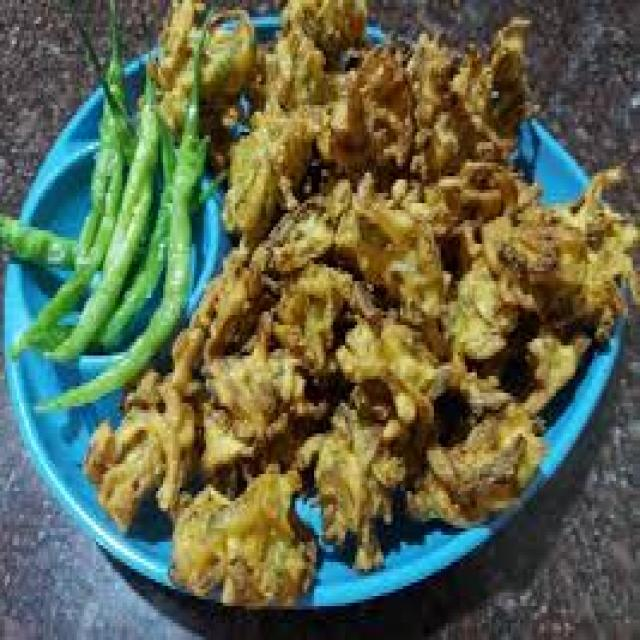BAJI: (79, 0, 627, 616)
